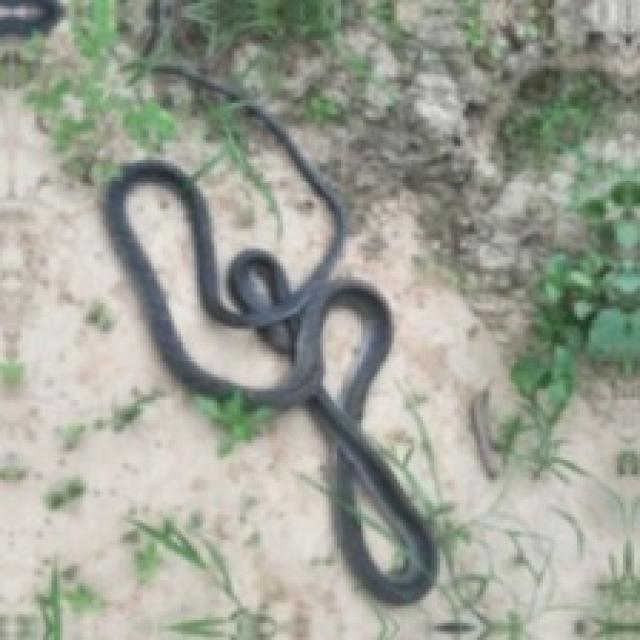king cobra: (103, 63, 434, 603), (126, 186, 289, 386)
